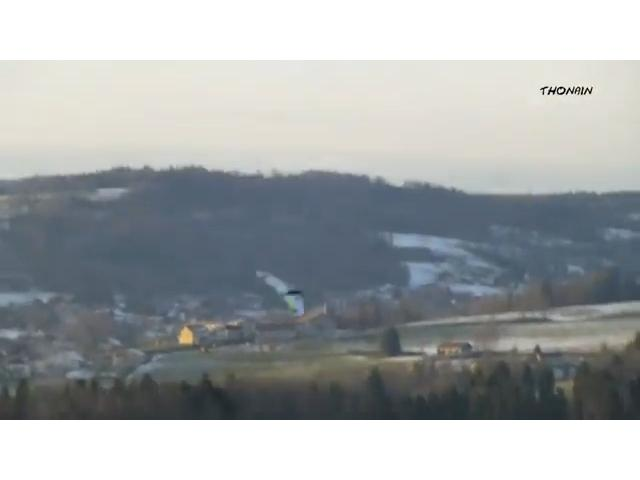Anti-Drone: (247, 262, 313, 326)
